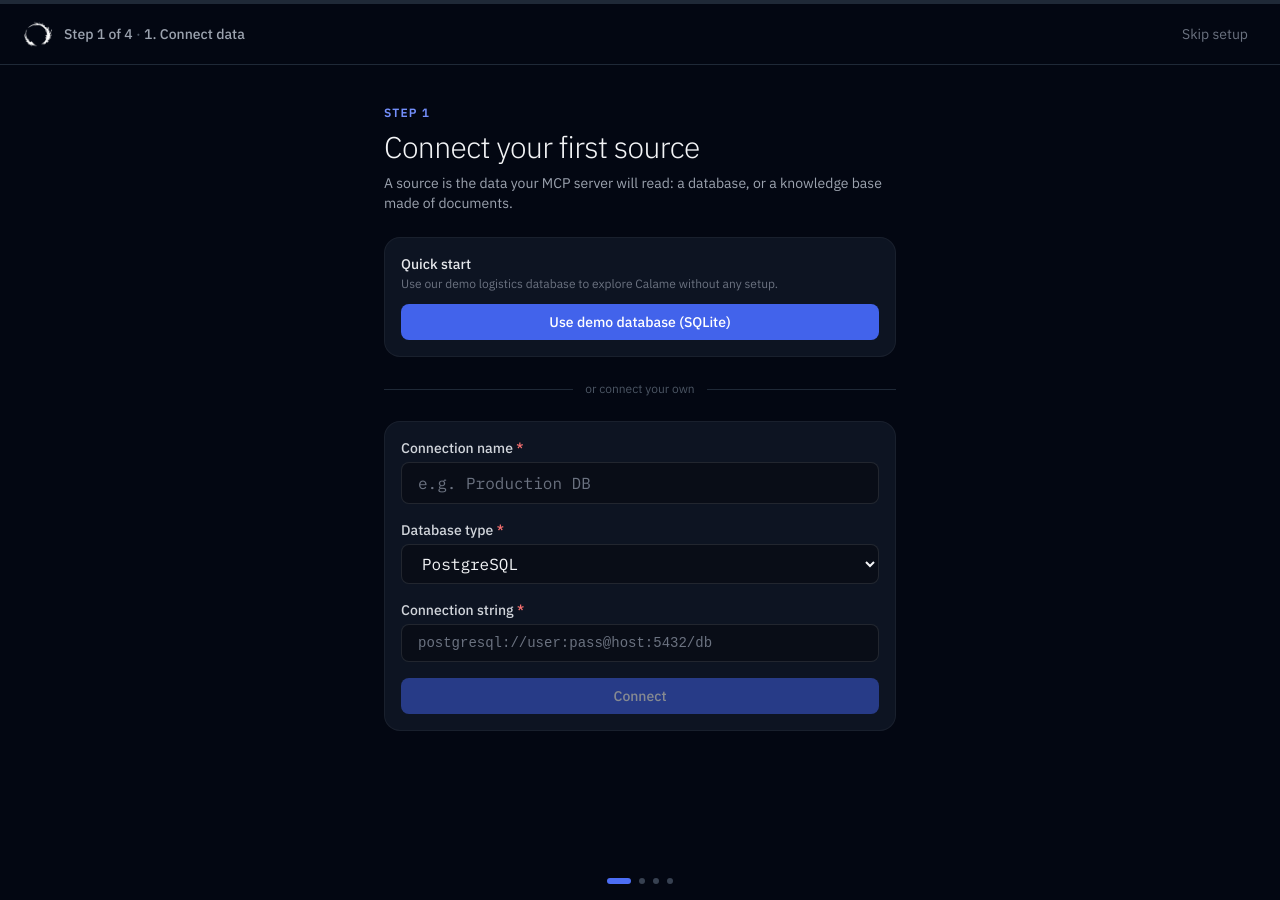
Test case: OnboardingWizard › does not save the profile when configuration creation fails
The width and height of the screenshot is (1280, 900).
Click the button "Use demo database (SQLite)": x=640, y=322 top-left (401, 304), bottom-right (879, 340)
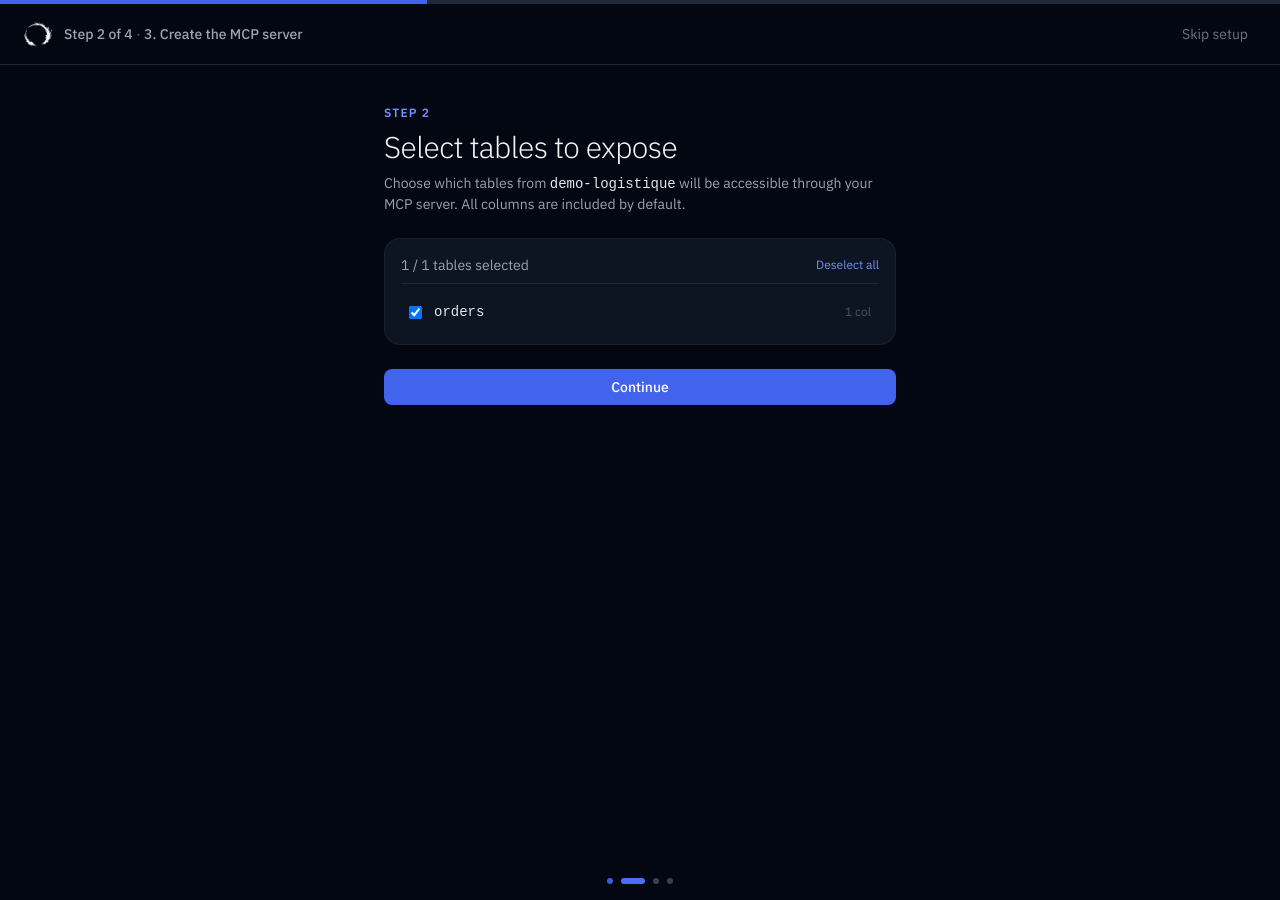
Result: the text "1 / 1 tables selected" is shown at top-left (401, 255), bottom-right (529, 275)
Click the button "Continue": x=640, y=387 top-left (384, 369), bottom-right (896, 405)
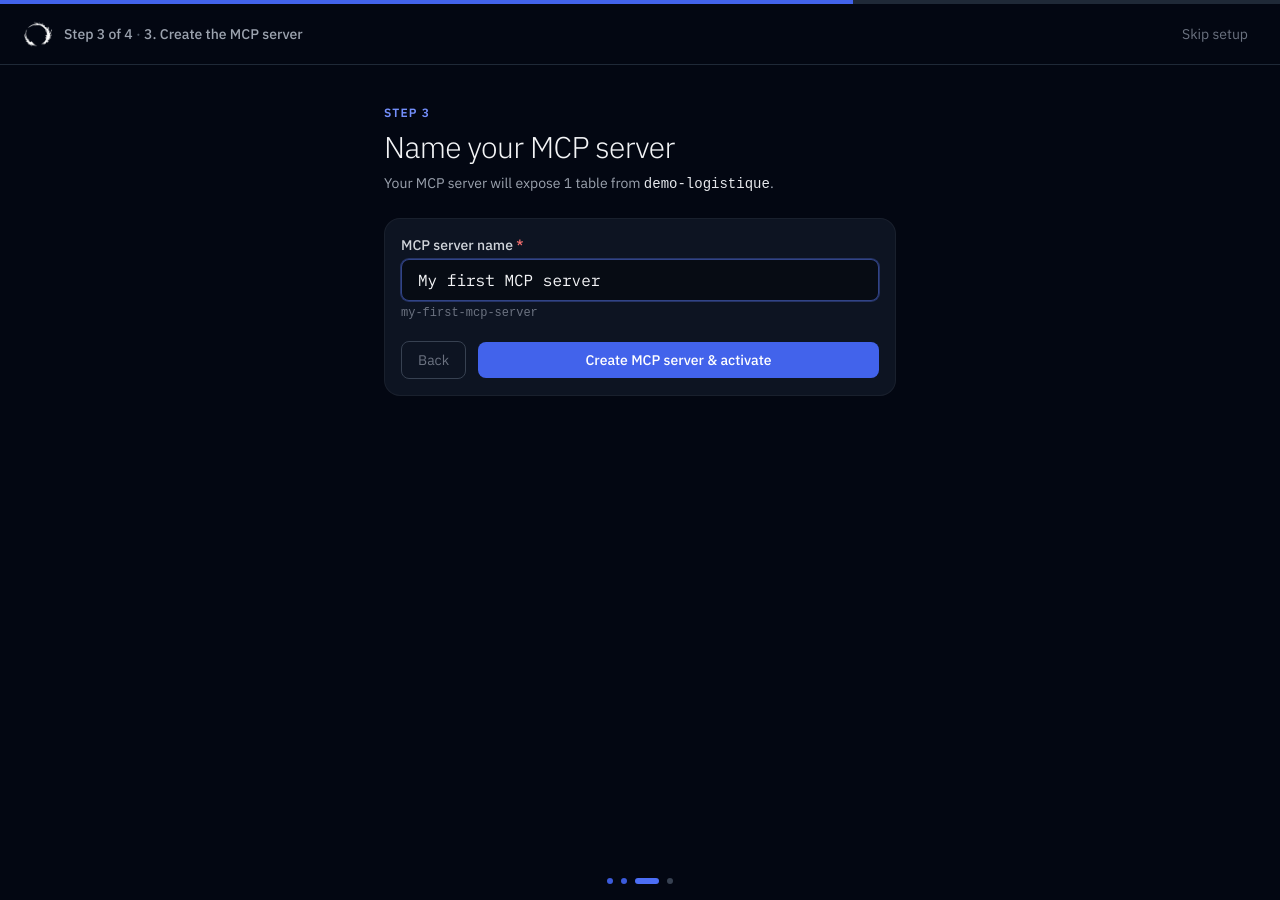
Click the button "Create MCP server & activate": x=678, y=360 top-left (478, 342), bottom-right (879, 378)
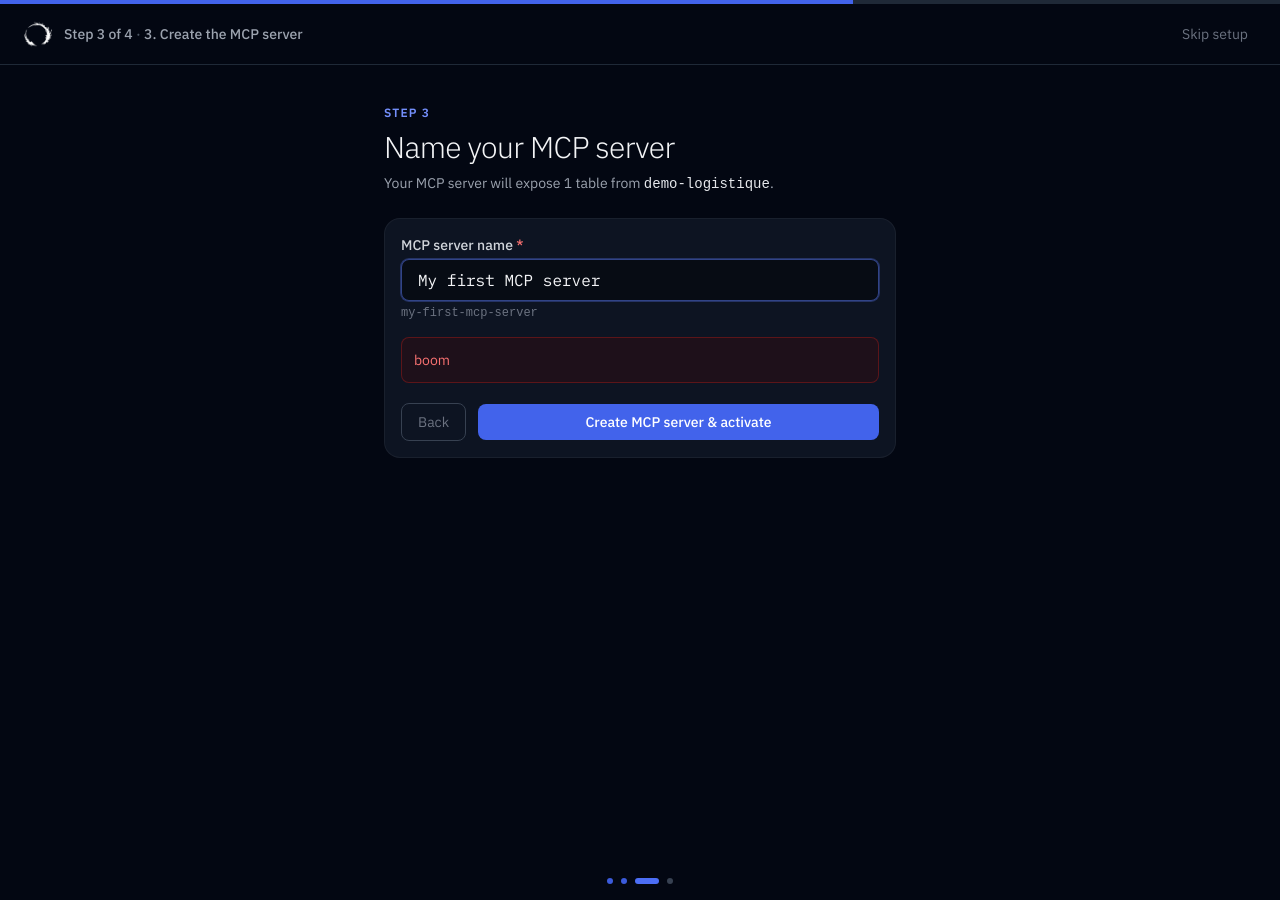
Result: the text "boom" is shown at top-left (401, 337), bottom-right (879, 383)
